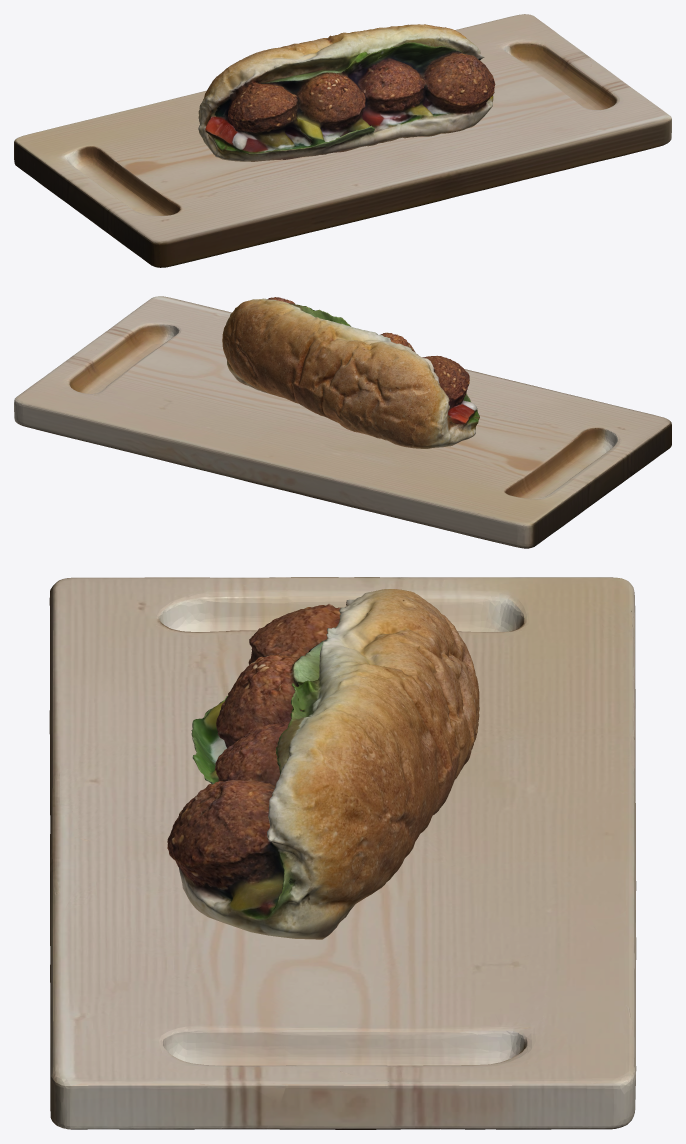
Rendered from felafel.glb.
The picture shows the model from 3 angles, top to bottom: view 1: azimuth 30°, elevation 25°; view 2: azimuth 150°, elevation 25°; view 3: azimuth 270°, elevation 25°; orthographic projection. The views are drawn at different scales.
Parts seen in each view (by area): view 1: world, 3DModel.001; view 2: world, 3DModel.001; view 3: world, 3DModel.001.
Part boxes in pixels (x1=…): world: x1=14, y1=14, x2=671, y2=267; 3DModel.001: x1=198, y1=24, x2=495, y2=161; world: x1=14, y1=296, x2=671, y2=548; 3DModel.001: x1=222, y1=297, x2=479, y2=448; world: x1=49, y1=577, x2=636, y2=1129; 3DModel.001: x1=167, y1=589, x2=479, y2=939.
Size of the model in its own units: 0.5313 by 0.1111 by 0.2595.
2 materials, 2 textured.
